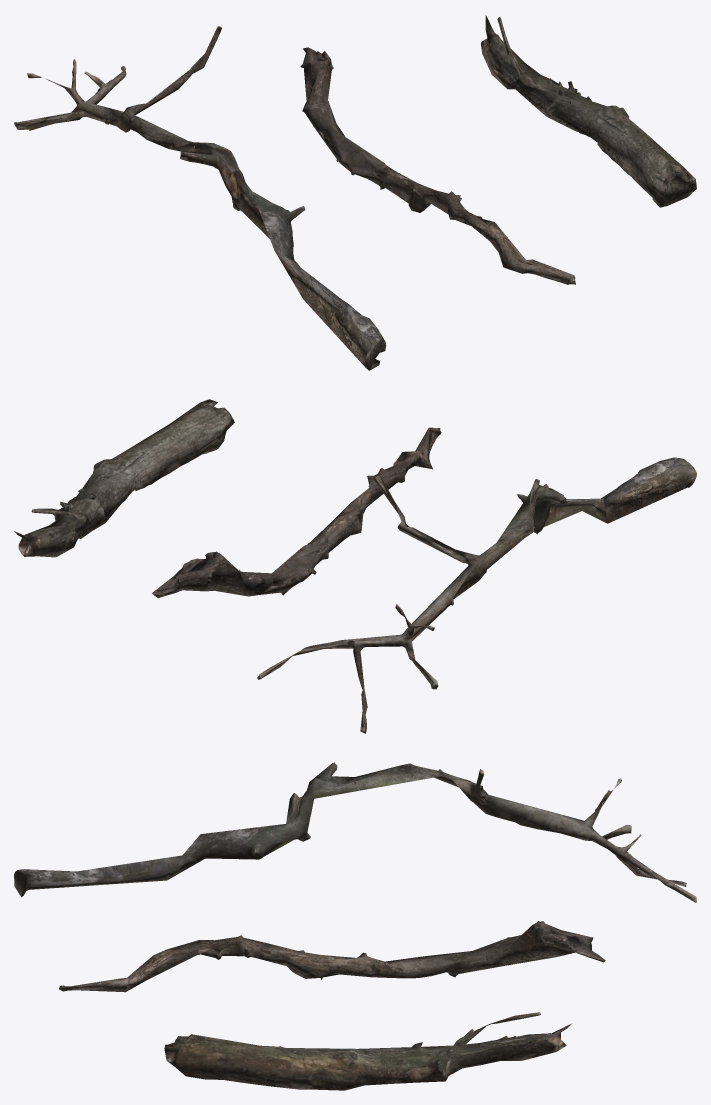
The model's file is dry_branches_medium_01.glb.
The picture shows the model from 3 angles, top to bottom: view 1: azimuth 30°, elevation 25°; view 2: azimuth 150°, elevation 25°; view 3: azimuth 270°, elevation 25°; orthographic projection. The views are drawn at different scales.
Parts seen in each view (by area): view 1: dry_branches_medium_01_a, dry_branches_medium_01_c, dry_branches_medium_01_b; view 2: dry_branches_medium_01_a, dry_branches_medium_01_c, dry_branches_medium_01_b; view 3: dry_branches_medium_01_a, dry_branches_medium_01_c, dry_branches_medium_01_b.
Part boxes in pixels (<box>): dry_branches_medium_01_a: <box>14,26,386,370</box>; dry_branches_medium_01_c: <box>480,15,696,207</box>; dry_branches_medium_01_b: <box>300,47,575,284</box>; dry_branches_medium_01_a: <box>257,457,696,733</box>; dry_branches_medium_01_c: <box>14,399,234,557</box>; dry_branches_medium_01_b: <box>152,427,441,597</box>; dry_branches_medium_01_a: <box>14,762,696,902</box>; dry_branches_medium_01_c: <box>164,1012,572,1090</box>; dry_branches_medium_01_b: <box>59,921,605,992</box>.
Bounding box in the file's own units: 1.06 × 0.34 × 1.3.
Materials: 1 (1 with a texture image).
